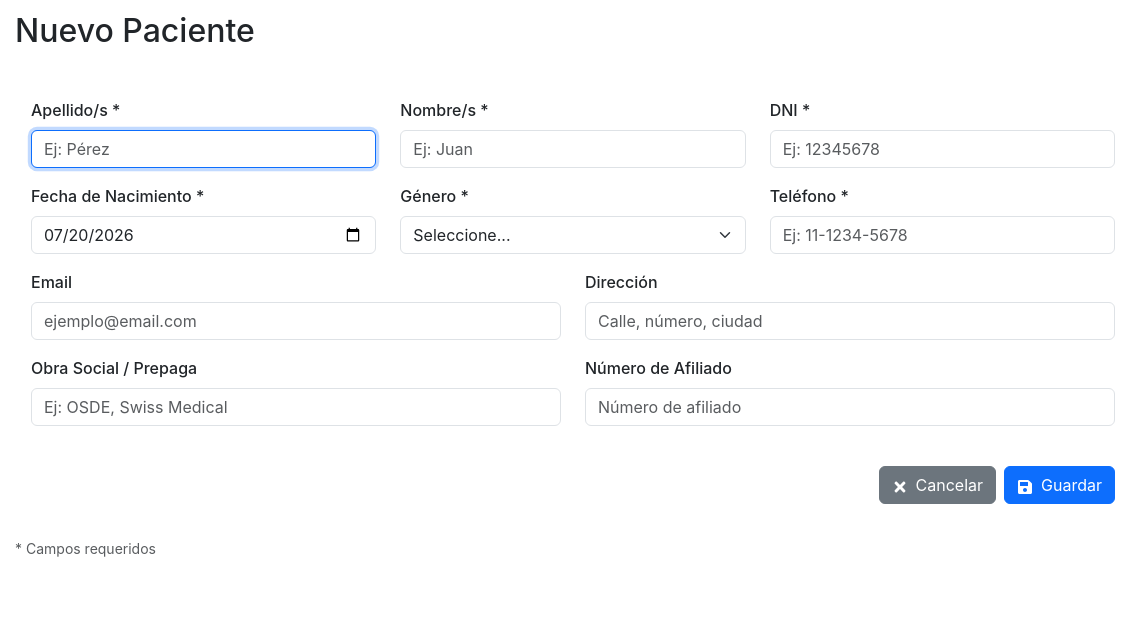
Test case: PacienteForm › detecta un DNI existente al salir del campo y muestra el nombre del paciente
Step 1. Type "12345678" into the field named "dni" → (942, 149), box [770,130,1115,168]
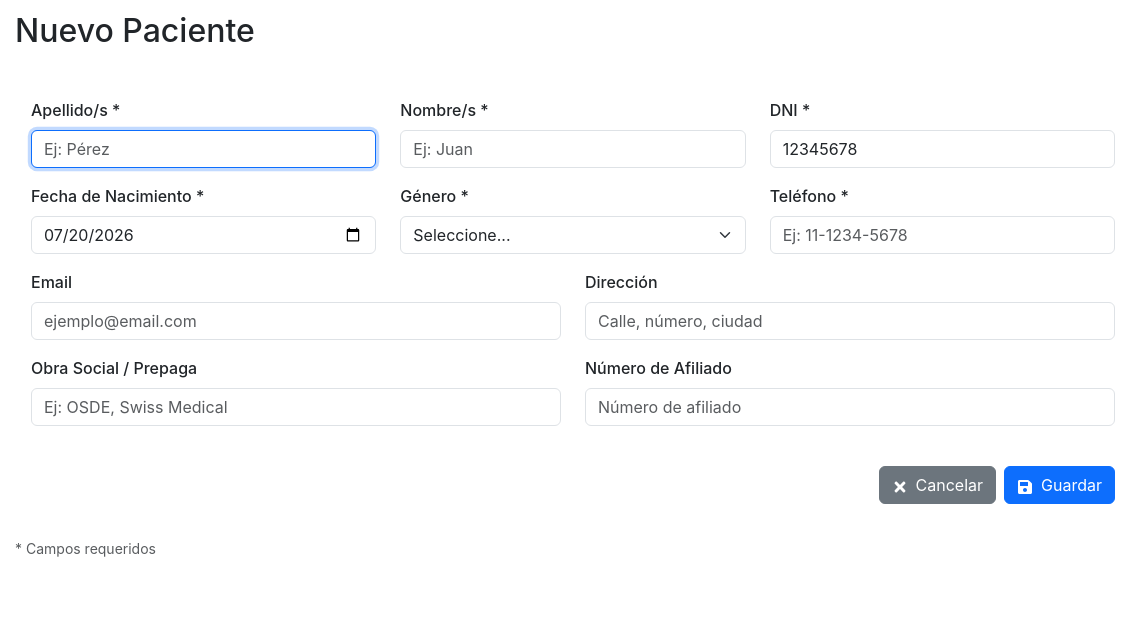
Step 2. Leave the field named "dni", box [770,130,1115,168]
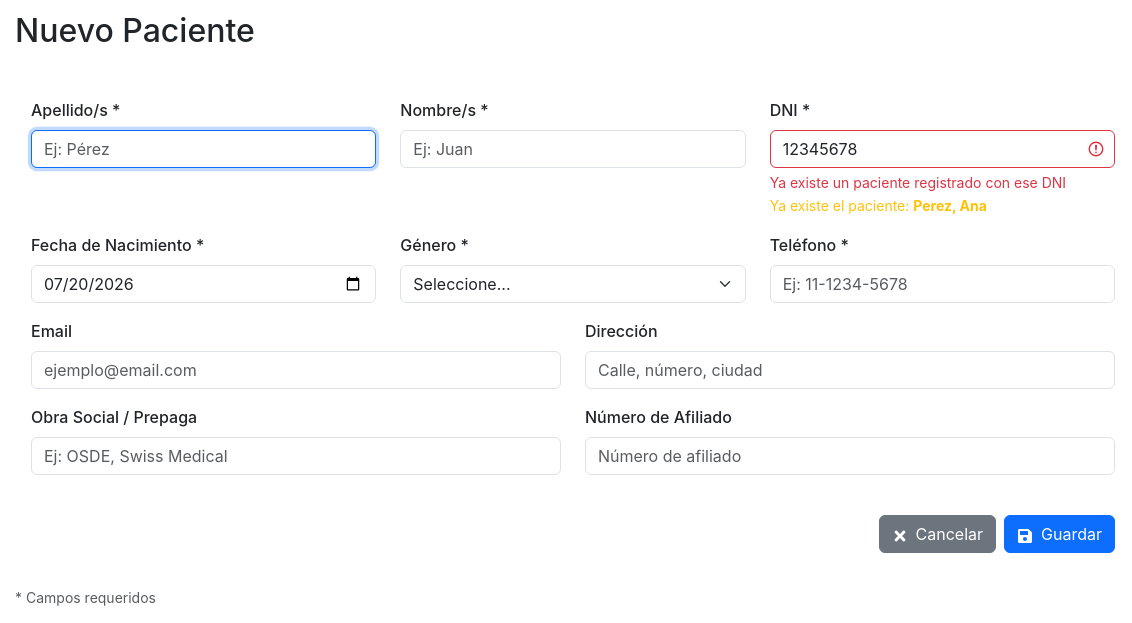
Expected: the text "Ya existe un paciente registrado con ese DNI" is shown, [770,172,1115,193]
Expected: the text "Ya existe el paciente: Perez, Ana" is shown, [770,197,987,214]
Expected: the text "Perez, Ana" is shown, [913,197,987,214]
